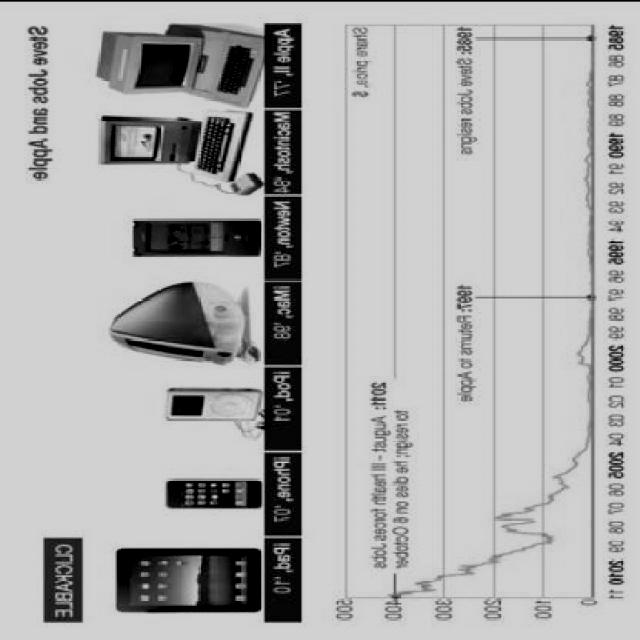fake: (114, 548, 260, 610), (129, 217, 265, 257), (152, 476, 254, 516)
